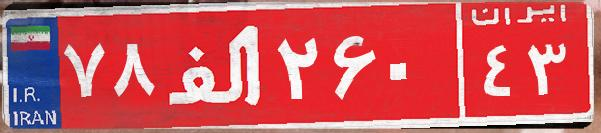0: (385, 28, 445, 110)
2: (273, 28, 330, 110)
3: (525, 38, 570, 115)
4: (475, 38, 525, 113)
6: (330, 28, 385, 110)
7: (57, 26, 110, 107)
8: (110, 28, 158, 105)
الف: (158, 15, 273, 115)
